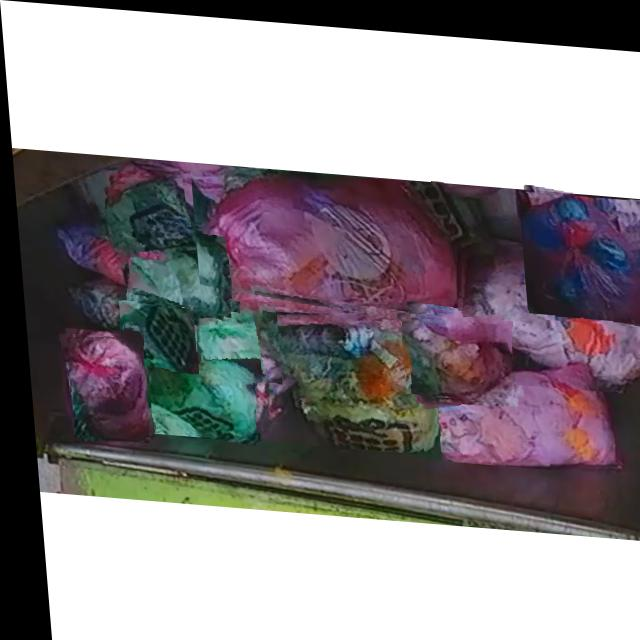general_trashbag: (262, 308, 428, 447), (137, 354, 248, 435), (102, 175, 202, 256), (191, 299, 271, 376), (126, 245, 223, 308), (117, 302, 189, 369)
other_trashbag: (194, 171, 452, 303), (456, 234, 640, 381), (415, 349, 610, 457), (518, 185, 639, 316), (62, 333, 144, 438), (396, 312, 506, 390)
